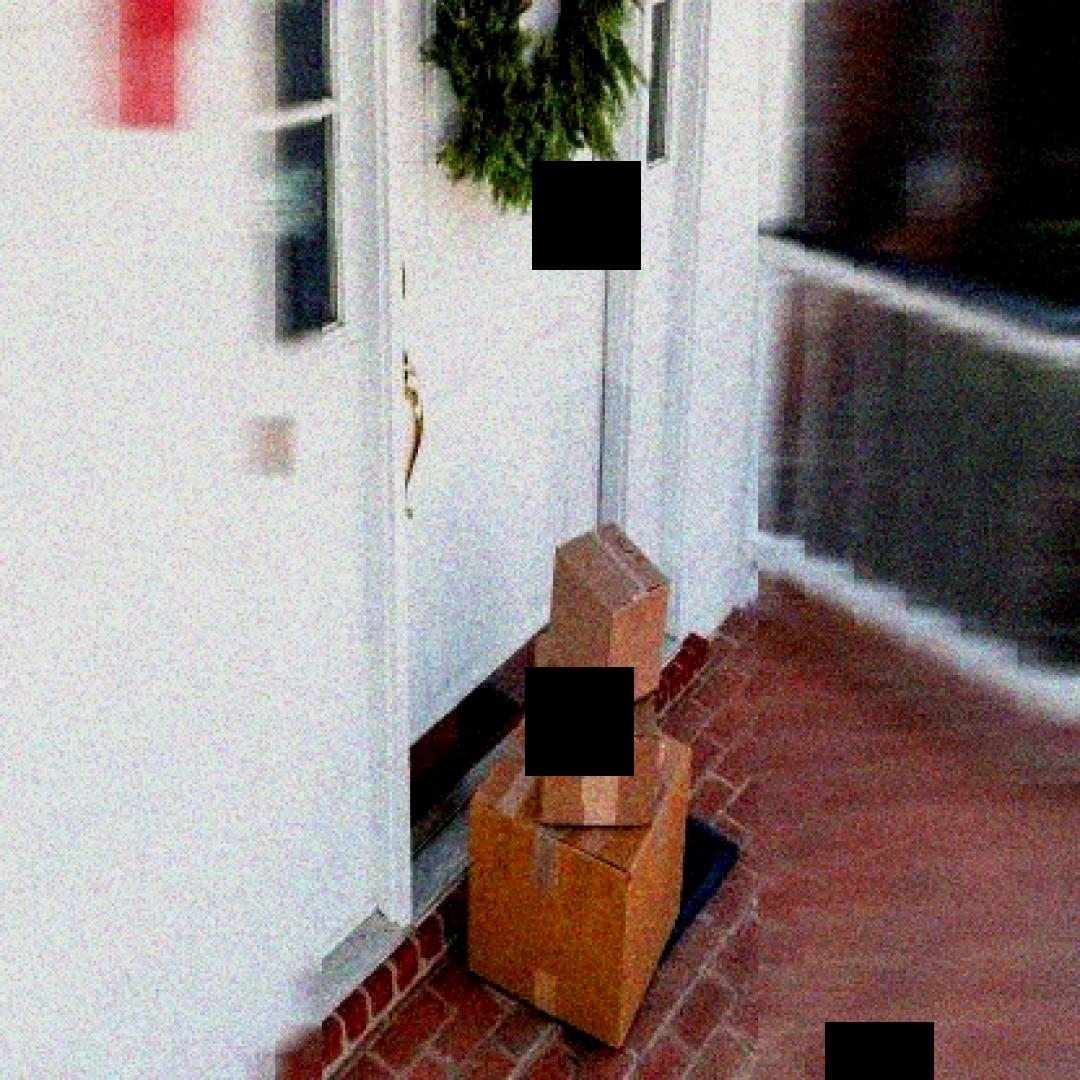package: (457, 740, 701, 1051), (540, 514, 672, 725), (530, 698, 664, 831)
